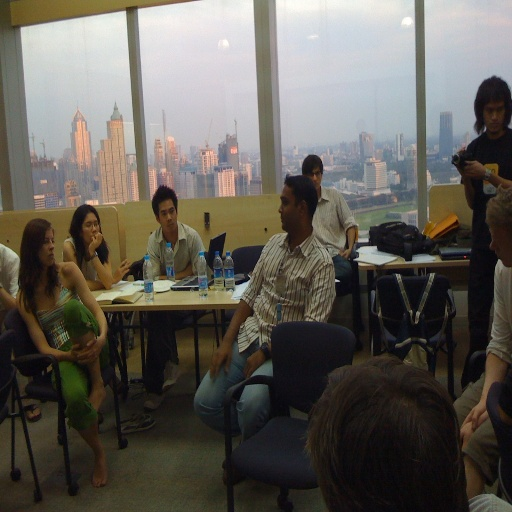hand: (208, 337, 229, 376), (242, 349, 266, 382), (457, 401, 484, 430), (457, 421, 477, 454), (77, 338, 100, 366), (67, 344, 98, 364), (112, 258, 132, 284), (464, 160, 486, 180), (454, 143, 465, 177), (87, 231, 103, 252), (338, 247, 350, 261), (184, 259, 192, 275)
